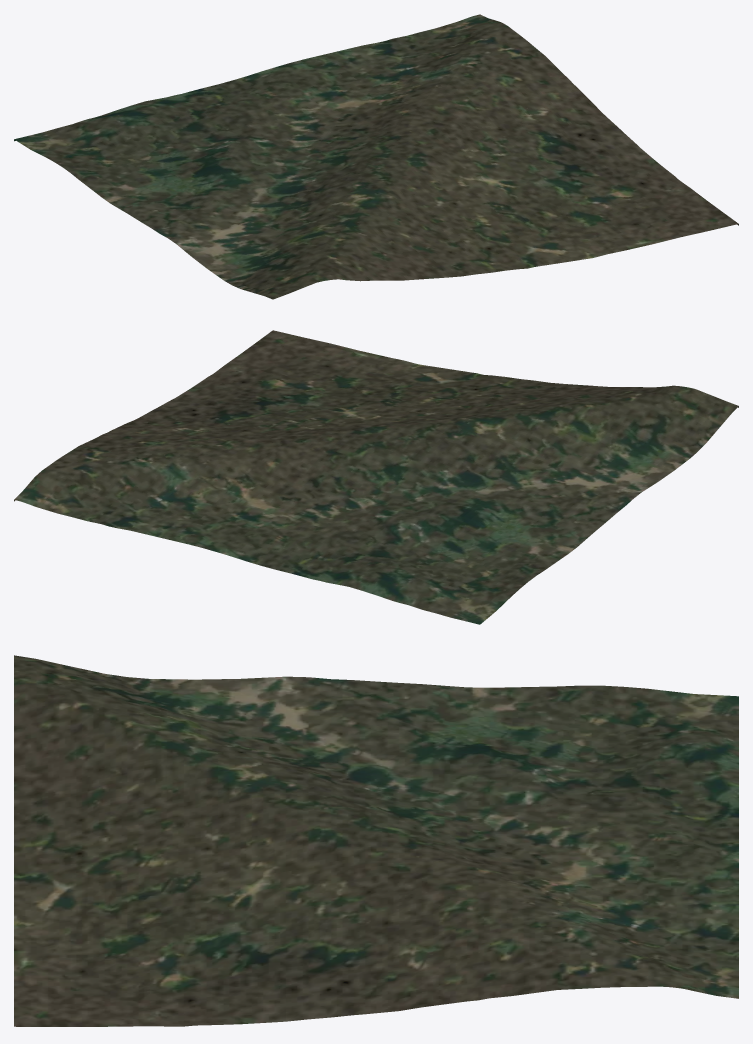
3 renders of one model, top to bottom at view 1: azimuth 30°, elevation 25°; view 2: azimuth 150°, elevation 25°; view 3: azimuth 270°, elevation 25°, orthographic. The views are drawn at different scales.
Bounding box in the file's own units: 250 × 23.92 × 241.
Materials: 1 (1 with a texture image).
